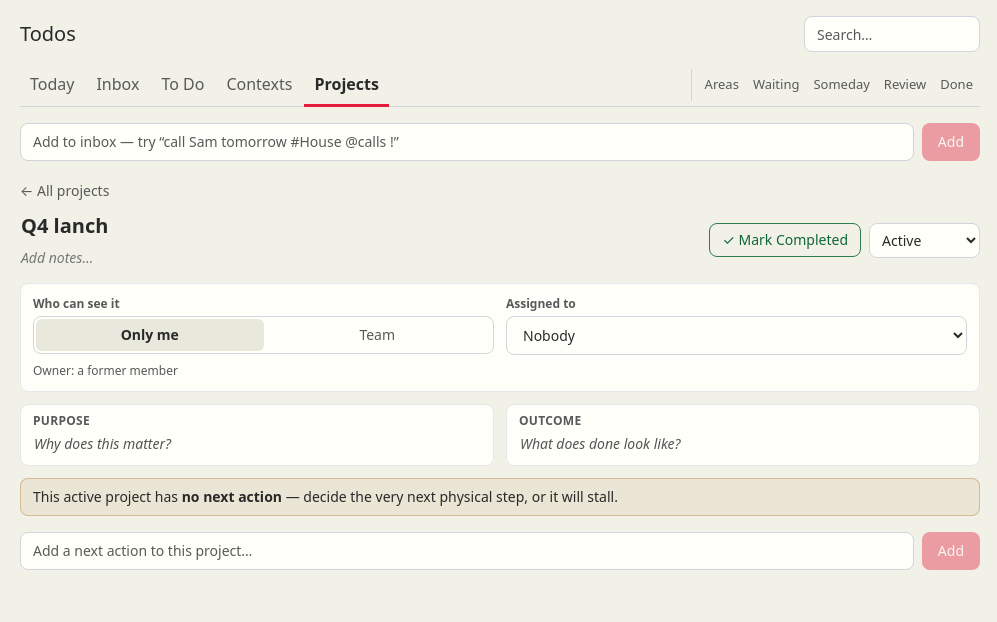
ProjectDetailPage — inline name edit (todo-gtd #3198) › sends nothing when the name is unchanged
The width and height of the screenshot is (997, 622).
Click the button titled "Click to rename" at {"x": 65, "y": 226}, box [16,209,113,243]
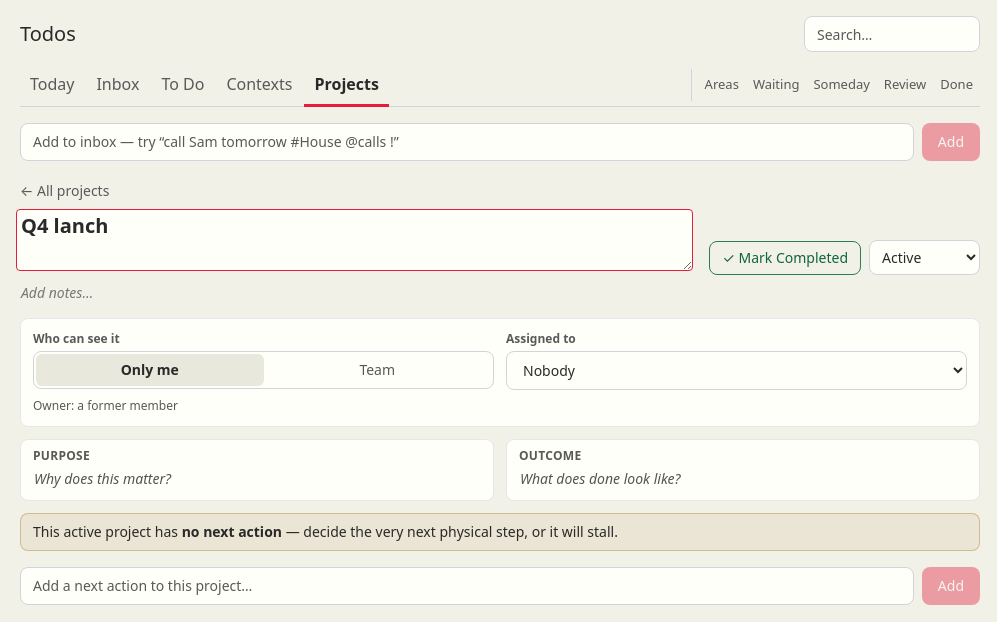
Leave the text box named "Project name", box [16,209,693,271]
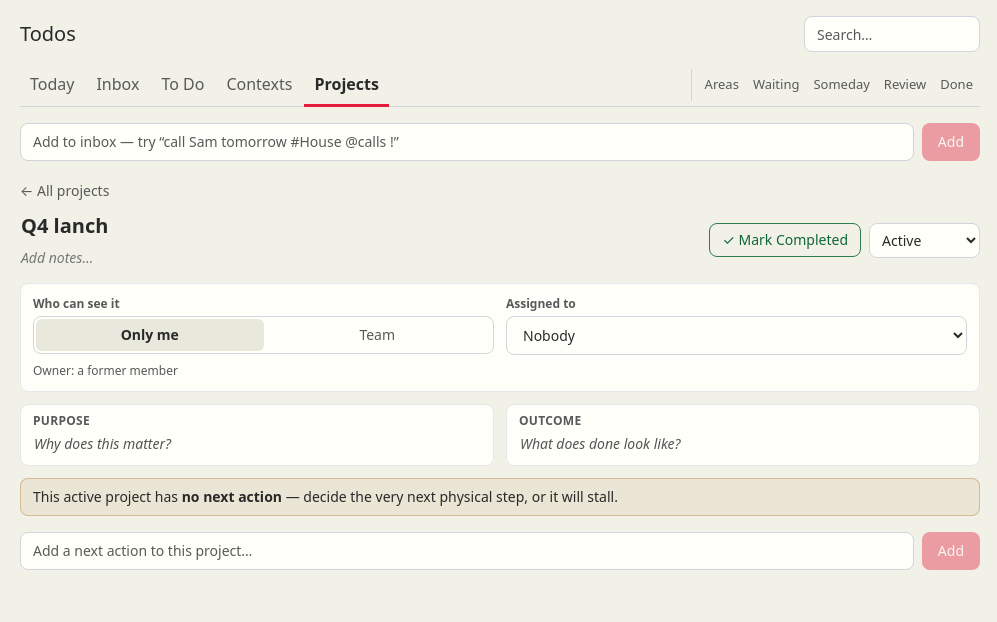
Expected: the button titled "Click to rename" reads "Q4 lanch", [16,209,113,243]
